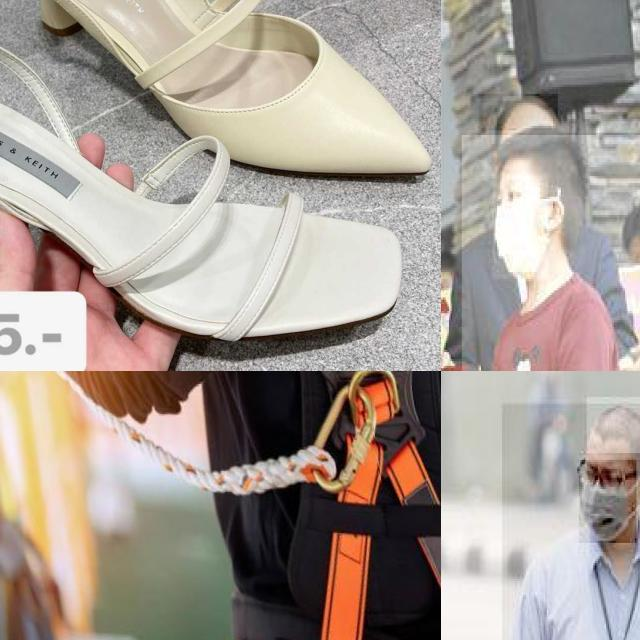Harness: (290, 371, 441, 640)
No_Ear-Protection: (541, 190, 566, 240)
Sandals: (0, 15, 411, 371), (0, 0, 441, 214)
face_mask: (492, 174, 548, 279), (579, 460, 636, 543)
glasses: (576, 459, 636, 499)
hand_noglove: (616, 331, 640, 371)
head_nohelmet: (494, 122, 583, 178), (586, 396, 640, 455)
person: (461, 135, 640, 371), (502, 403, 640, 640)
